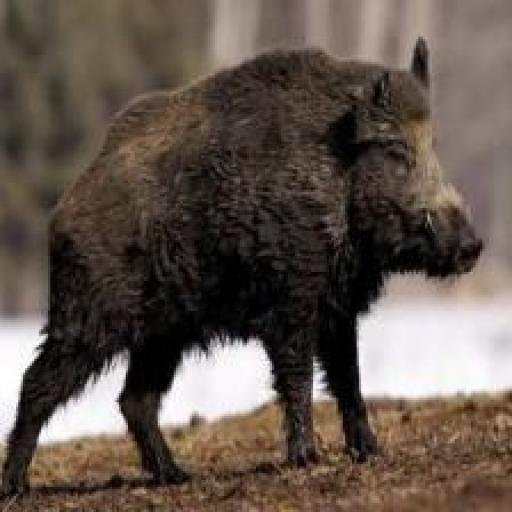Pig: (0, 32, 482, 496)
